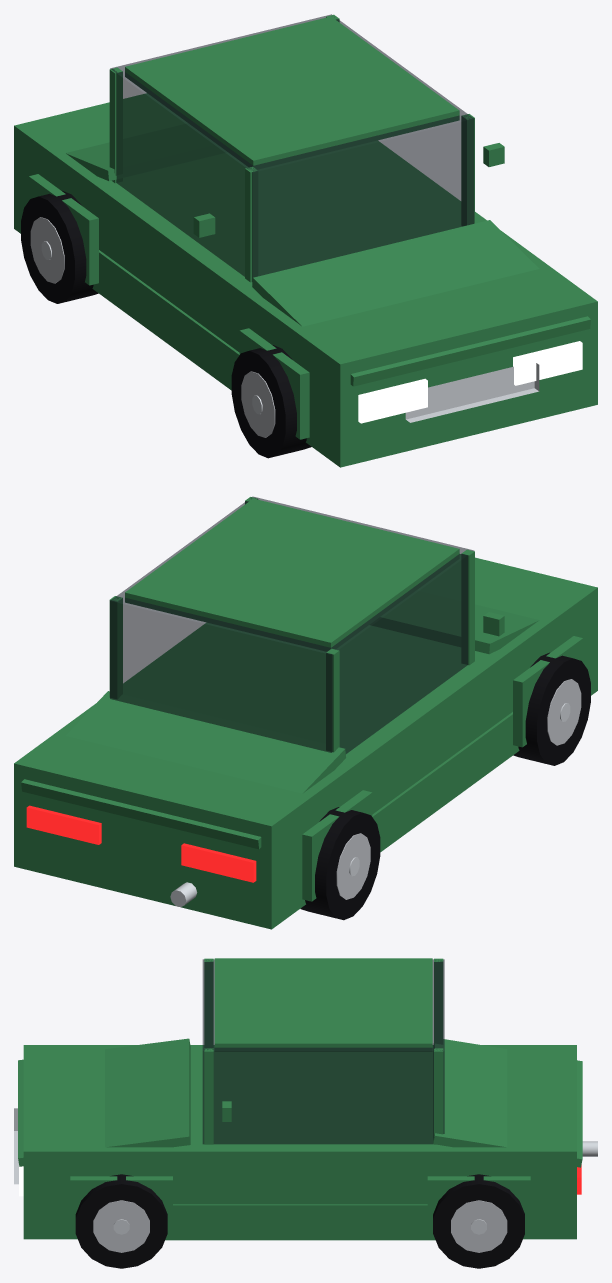
The model's file is car_starter.glb.
3 views of the same model, one above another, from view 1: azimuth 30°, elevation 25°; view 2: azimuth 150°, elevation 25°; view 3: azimuth 270°, elevation 25° (orthographic). The views are drawn at different scales.
Parts seen in each view (by area): view 1: car_starter; view 2: car_starter; view 3: car_starter.
Boxes of the visible parts, left/top/right/bottom form: car_starter: left=14, top=14, right=597, bottom=467; car_starter: left=14, top=496, right=597, bottom=929; car_starter: left=14, top=958, right=597, bottom=1268.
Size of the model in its own units: 1.94 by 1.45 by 3.75.
